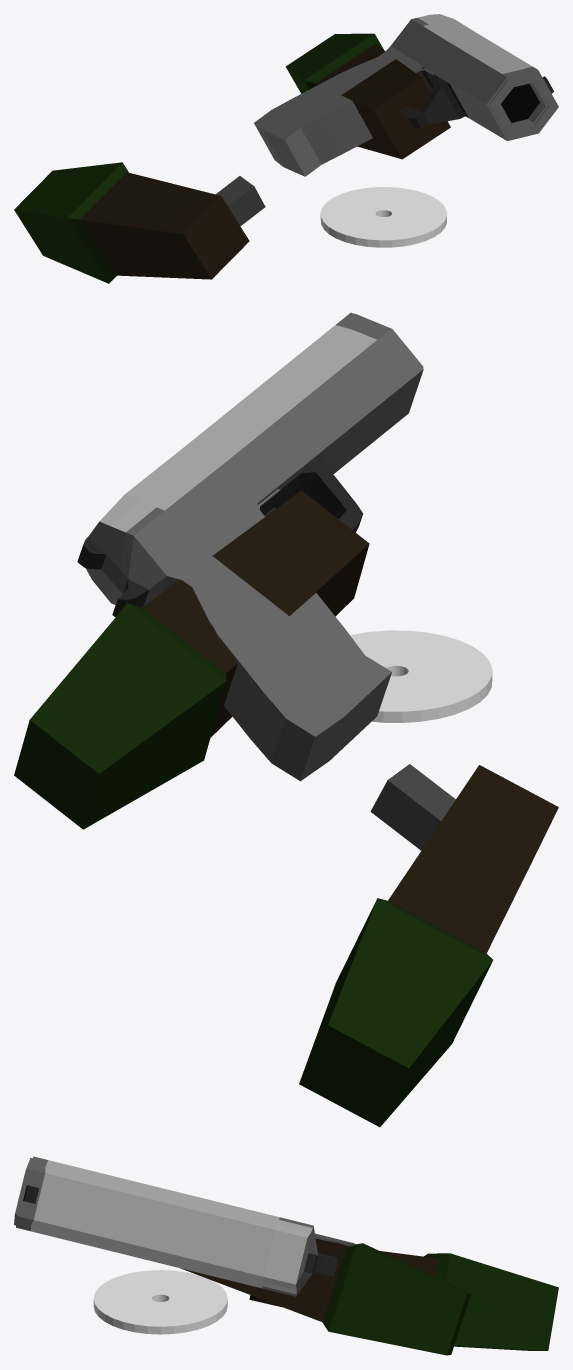
File: this will work gun.fbx
3 renders of one model, top to bottom at view 1: azimuth 30°, elevation 25°; view 2: azimuth 150°, elevation 25°; view 3: azimuth 270°, elevation 25°, orthographic. The views are drawn at different scales.
Parts seen in each view (by area): view 1: Gun, Arm.001, Arm, Cog Warmup, Cube; view 2: Gun, Arm, Arm.001, Cog Warmup, Cube; view 3: Gun, Arm, Arm.001, Cog Warmup.
Boxes of the visible parts, x1=… form: Gun: x1=254, y1=14, x2=558, y2=176; Arm.001: x1=14, y1=162, x2=249, y2=283; Arm: x1=285, y1=33, x2=450, y2=159; Cog Warmup: x1=320, y1=187, x2=446, y2=247; Cube: x1=216, y1=176, x2=265, y2=226; Gun: x1=77, y1=312, x2=423, y2=781; Arm: x1=14, y1=490, x2=369, y2=829; Arm.001: x1=299, y1=765, x2=558, y2=1127; Cog Warmup: x1=350, y1=630, x2=492, y2=722; Cube: x1=370, y1=764, x2=455, y2=850; Gun: x1=14, y1=1156, x2=355, y2=1296; Arm: x1=181, y1=1238, x2=470, y2=1355; Arm.001: x1=249, y1=1251, x2=558, y2=1350; Cog Warmup: x1=93, y1=1270, x2=227, y2=1334.
Bounding box in the file's own units: 603 × 518 × 813.
